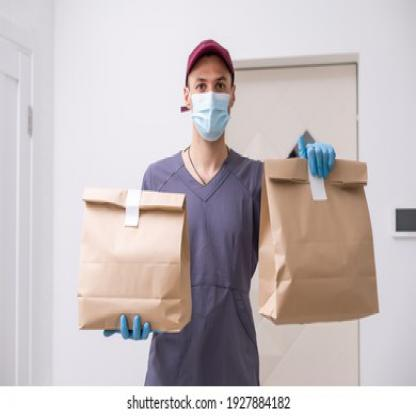with_gloves: (104, 315, 161, 342), (298, 138, 336, 178)
